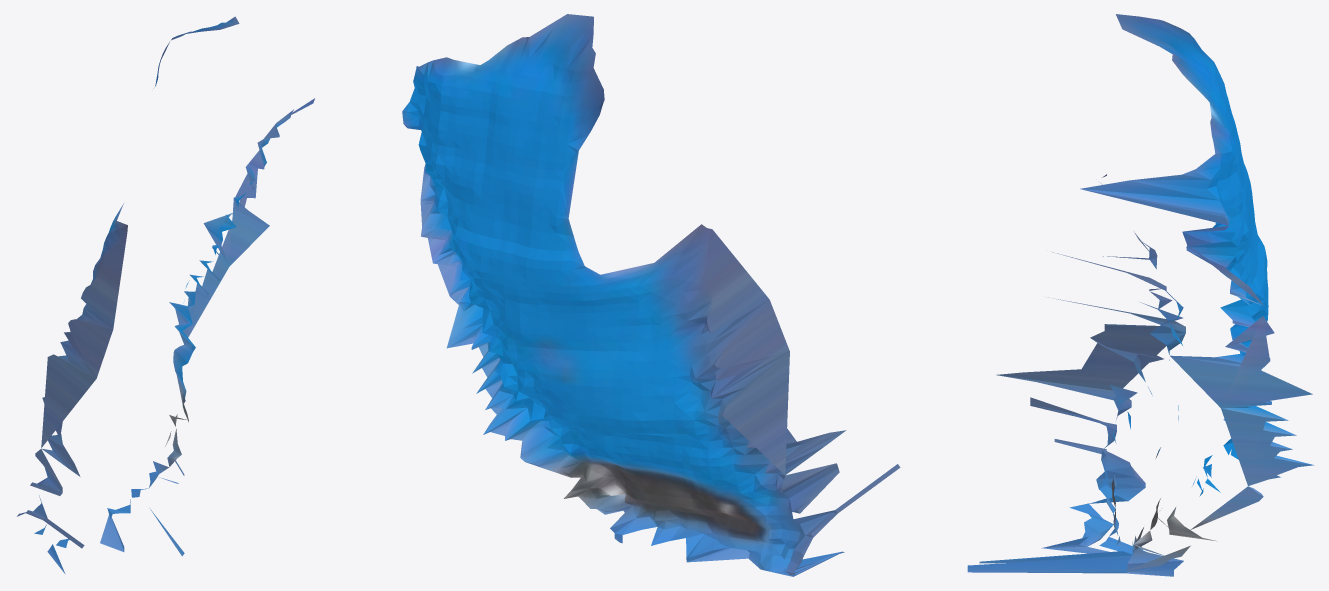
Rendered from observed-surface.glb.
3 views of the same model, side by side, from view 1: azimuth 30°, elevation 25°; view 2: azimuth 150°, elevation 25°; view 3: azimuth 270°, elevation 25° (orthographic). The views are drawn at different scales.
Parts seen in each view (by area): view 1: geometry_0; view 2: geometry_0; view 3: geometry_0.
Part boxes in pixels (x1,y1,x2,y2): geometry_0: [17, 16, 314, 574]; geometry_0: [402, 14, 900, 576]; geometry_0: [967, 14, 1314, 576].
Bounding box in the file's own units: 0.3508 × 0.4567 × 0.2578.
1 material, 1 textured.
